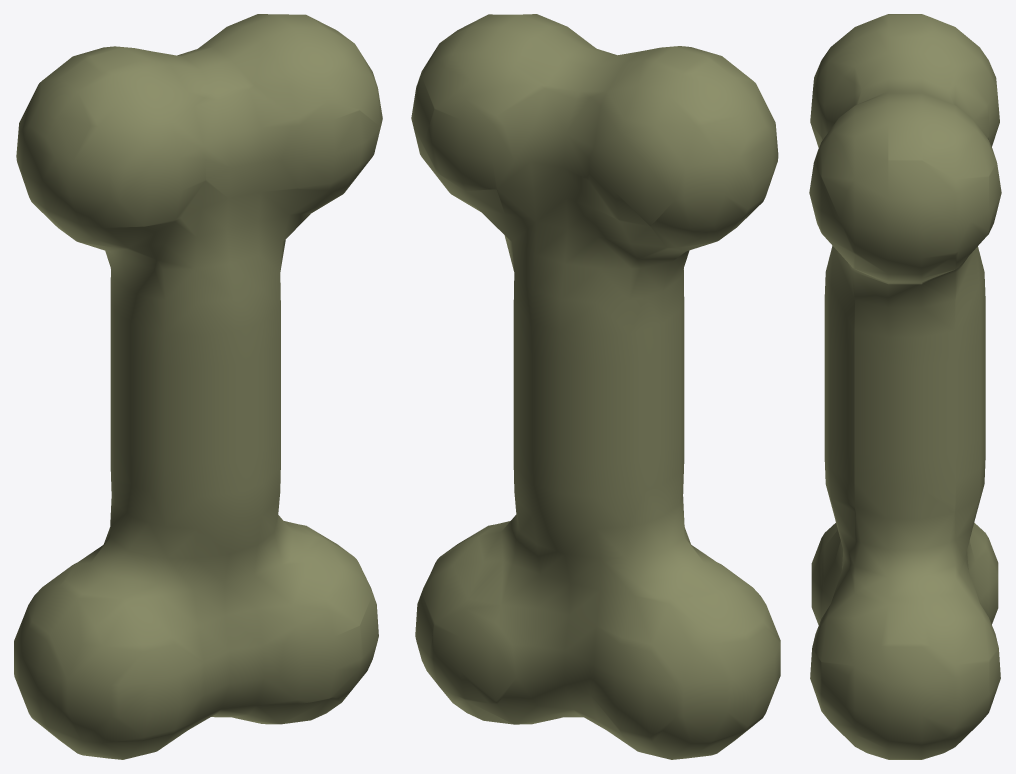
The model's file is Bone.fbx.
The picture shows the model from 3 angles, left to right: view 1: azimuth 30°, elevation 25°; view 2: azimuth 150°, elevation 25°; view 3: azimuth 270°, elevation 25°; orthographic projection. The views are drawn at different scales.
Visible parts, largest first — view 1: Mball; view 2: Mball; view 3: Mball.
Boxes of the visible parts, x1,y1,x2,y2 form: Mball: (14,14,382,759); Mball: (411,14,780,759); Mball: (809,14,1001,759).
Size of the model in its own units: 115 by 225 by 59.87.
